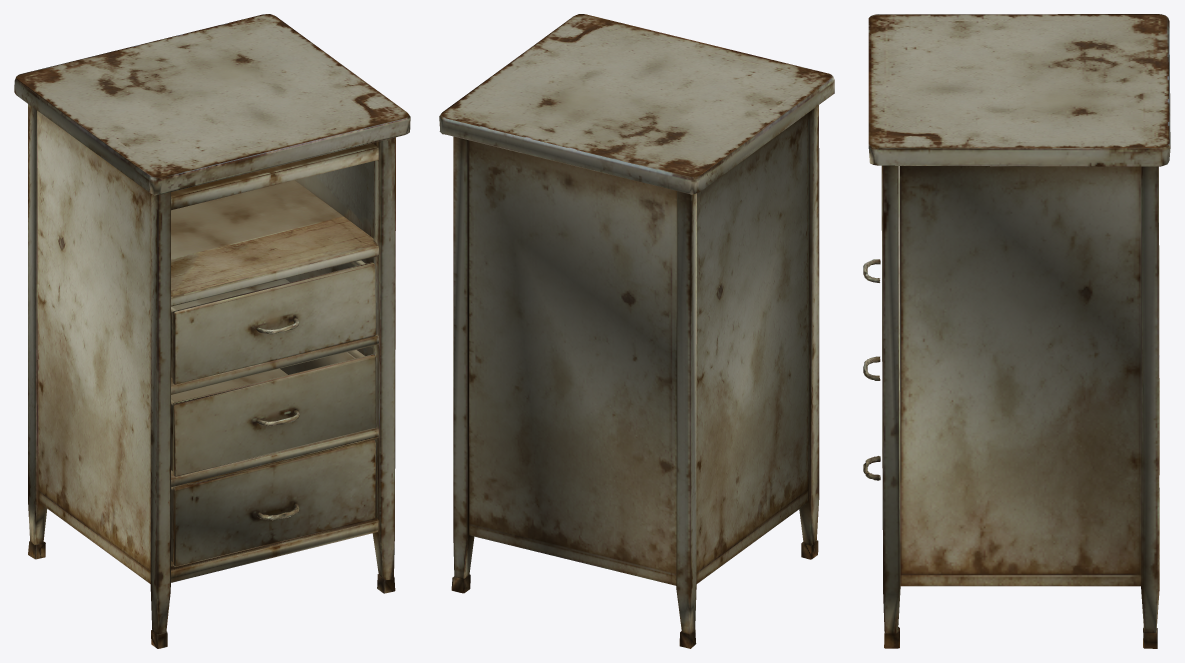
The model's file is cabinet.fbx.
3 views of the same model, side by side, from view 1: azimuth 30°, elevation 25°; view 2: azimuth 150°, elevation 25°; view 3: azimuth 270°, elevation 25° (orthographic). The views are drawn at different scales.
Parts seen in each view (by area): view 1: cabinet; view 2: cabinet; view 3: cabinet.
Boxes of the visible parts, x1,y1,x2,y2 form: cabinet: (14, 14, 410, 648); cabinet: (439, 14, 834, 648); cabinet: (863, 14, 1170, 648).
Bounding box in the file's own units: 188 × 330 × 182.
1 material, 1 textured.
